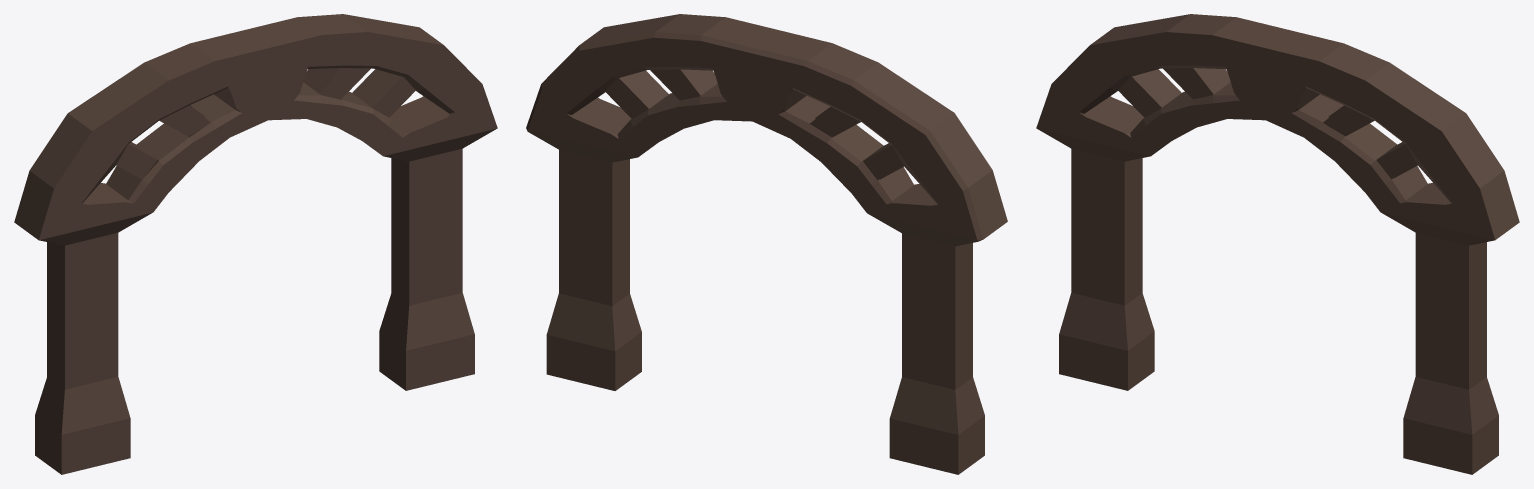
The model's file is fantasy_arch_2.fbx.
3 views of the same model, side by side, from view 1: azimuth 30°, elevation 25°; view 2: azimuth 150°, elevation 25°; view 3: azimuth 330°, elevation 25° (orthographic).
Visible parts, largest first — view 1: Circle.001; view 2: Circle.001; view 3: Circle.001.
Boxes of the visible parts, <box> form: Circle.001: <box>14,14,497,474</box>; Circle.001: <box>526,14,1007,474</box>; Circle.001: <box>1036,14,1519,474</box>.
Bounding box in the file's own units: 600 × 470 × 60.58.
